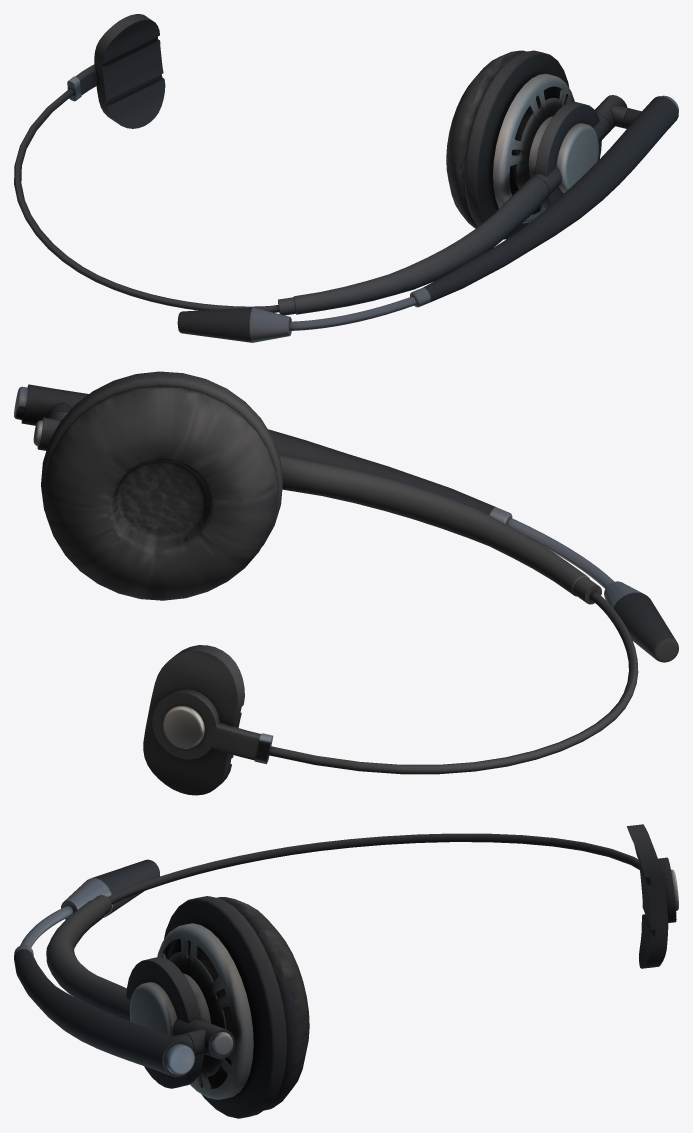
The model's file is erji1.fbx.
3 renders of one model, top to bottom at view 1: azimuth 30°, elevation 25°; view 2: azimuth 150°, elevation 25°; view 3: azimuth 270°, elevation 25°, orthographic. The views are drawn at different scales.
Parts seen in each view (by area): view 1: TXSB.027; view 2: TXSB.027; view 3: TXSB.027.
Part boxes in pixels (left/top/right/bottom): TXSB.027: left=14, top=14, right=678, bottom=342; TXSB.027: left=14, top=371, right=678, bottom=795; TXSB.027: left=14, top=824, right=678, bottom=1118.
Size of the model in its own units: 146 by 44.73 by 132.
1 material, 1 textured.
